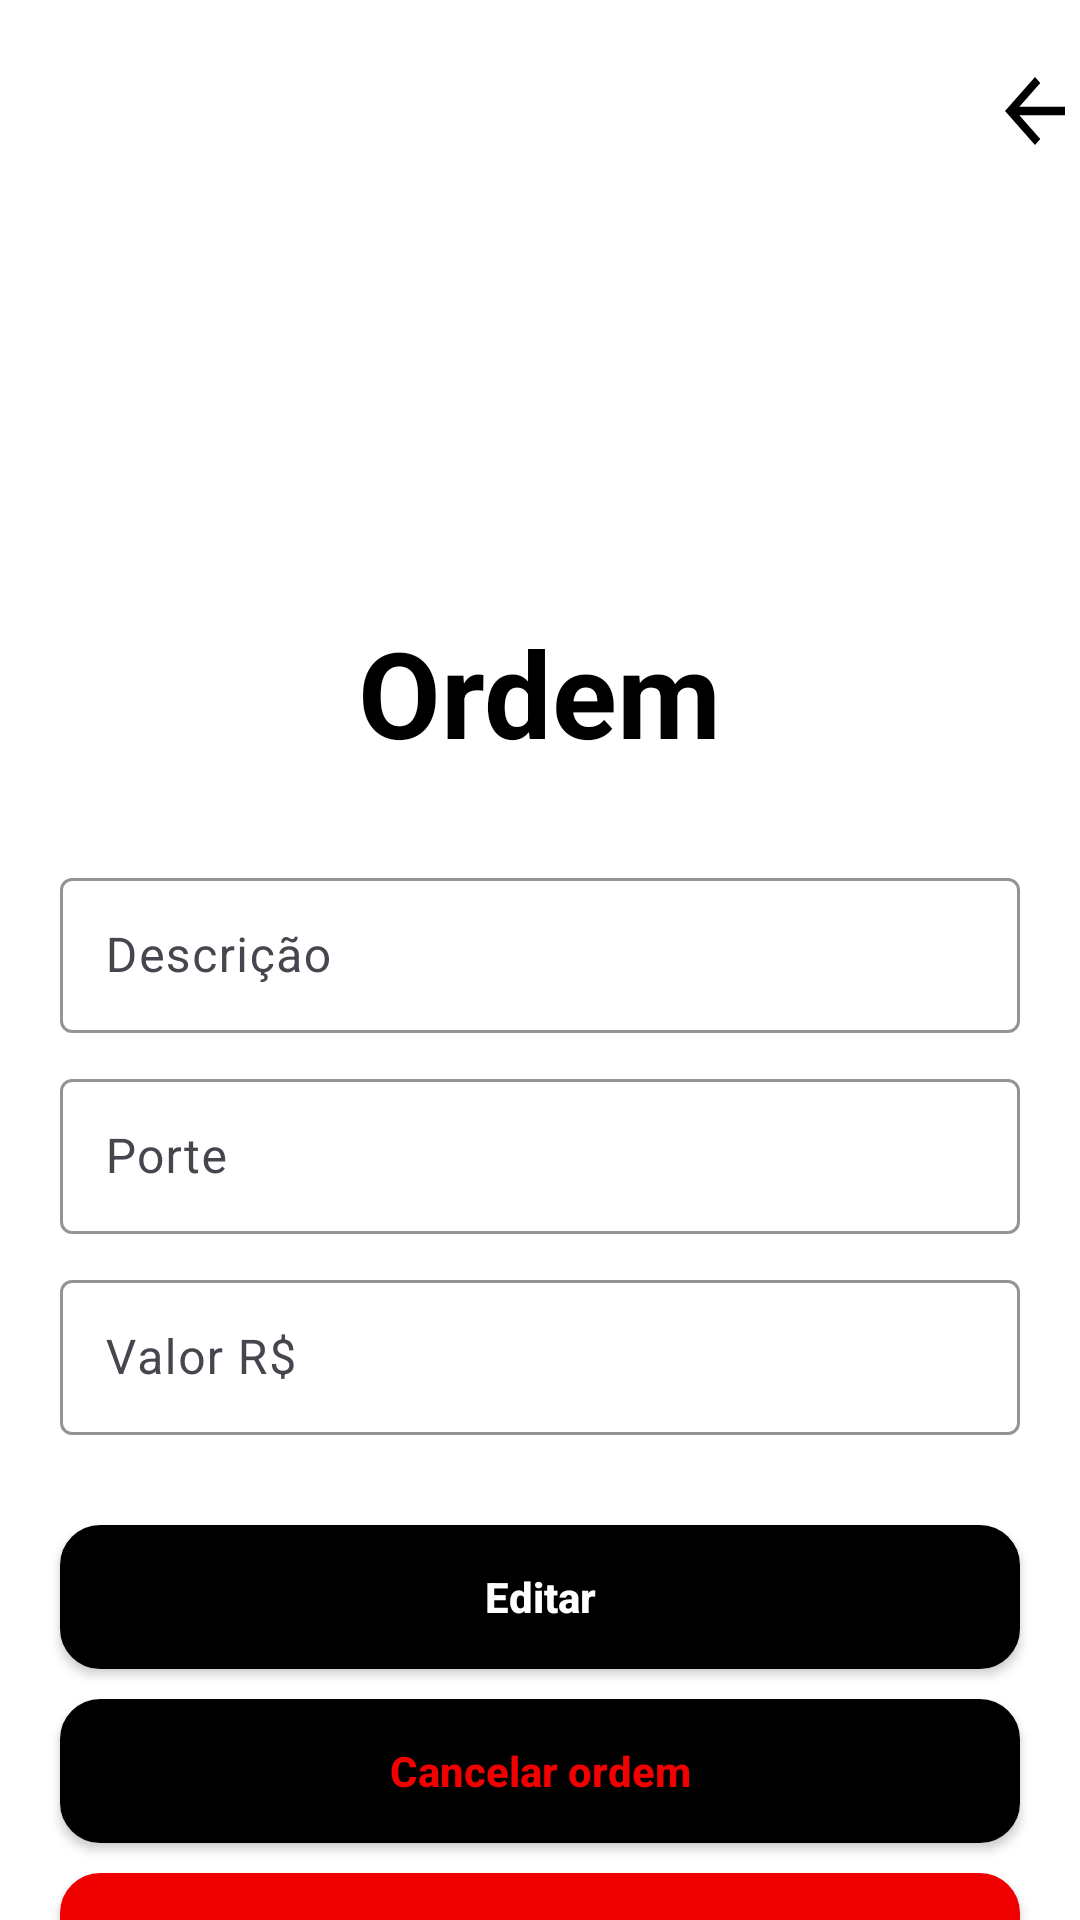

Where icons sit on this 1080x1920 app screen, as box(x1, y1, x2, y2):
voltar nav: box(1005, 77, 1065, 145)
